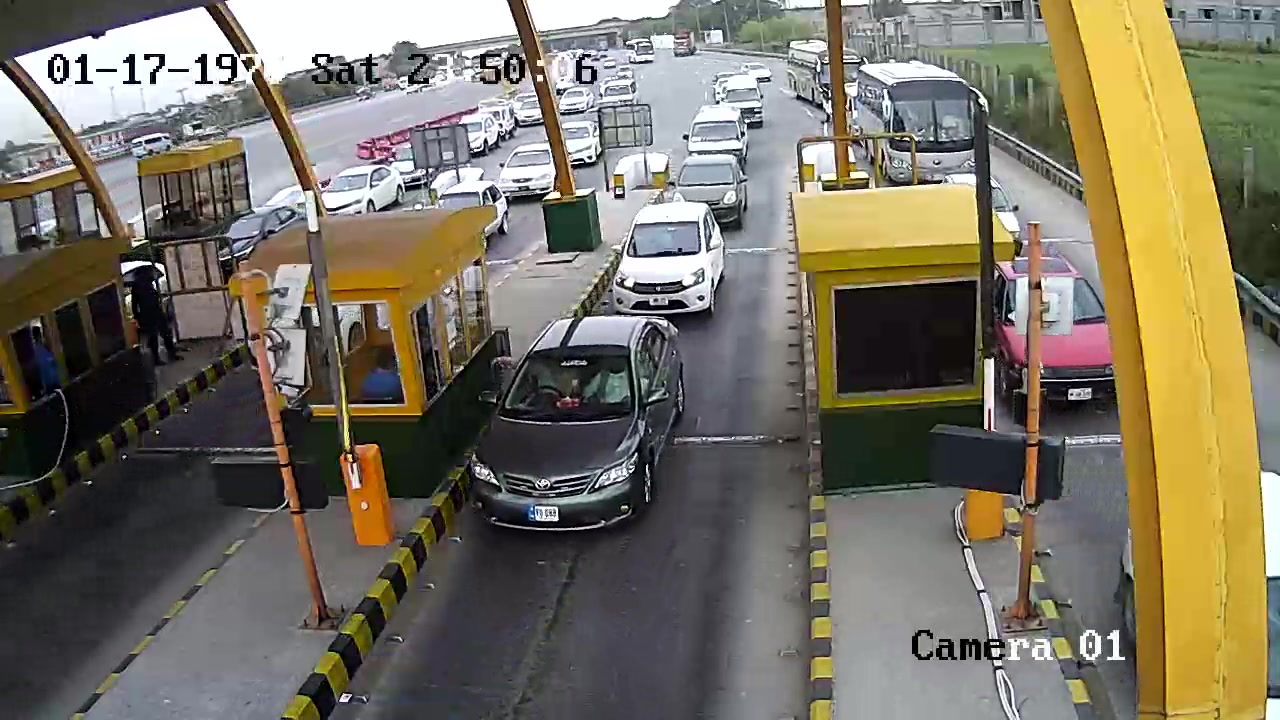F1: (461, 314, 691, 542)
